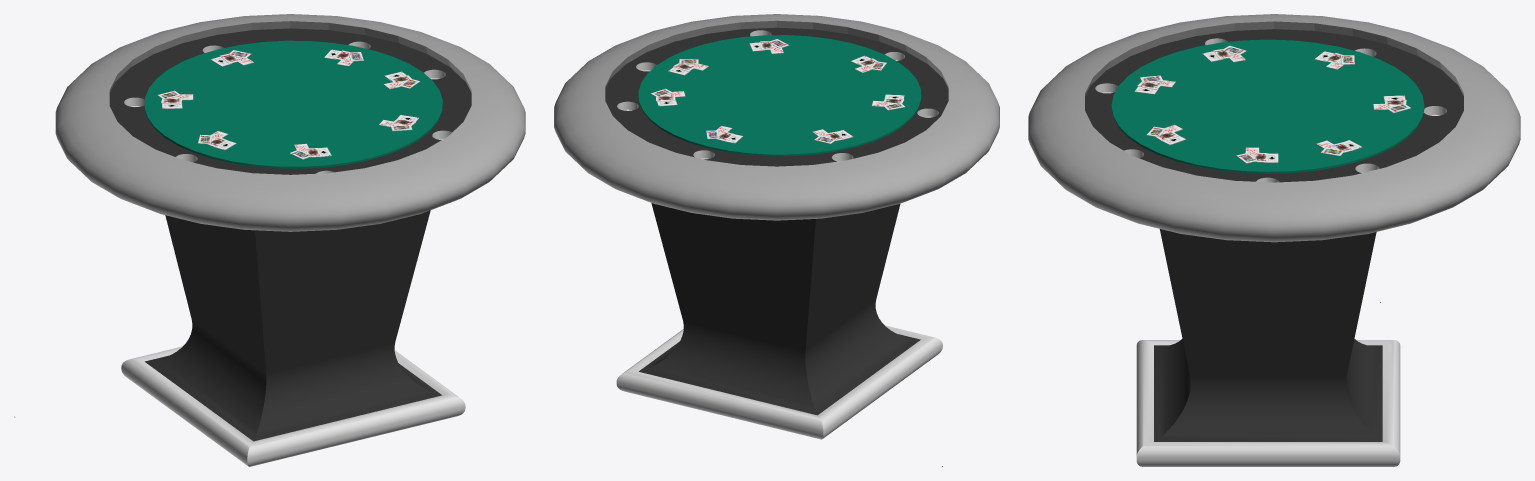
The model's file is Mesa de cartas.fbx.
3 views of the same model, side by side, from view 1: azimuth 30°, elevation 25°; view 2: azimuth 150°, elevation 25°; view 3: azimuth 270°, elevation 25° (orthographic). The views are drawn at different scales.
Parts seen in each view (by area): view 1: polySurface2844, polySurface2829, polySurface2834, polySurface2842; view 2: polySurface2844, polySurface2829, polySurface2834, polySurface2842; view 3: polySurface2844, polySurface2829, polySurface2834, polySurface2842.
Boxes of the visible parts, x1=… form: polySurface2844: x1=121, y1=210, x2=465, y2=466; polySurface2829: x1=55, y1=14, x2=525, y2=231; polySurface2834: x1=144, y1=40, x2=442, y2=168; polySurface2842: x1=109, y1=28, x2=471, y2=174; polySurface2844: x1=616, y1=203, x2=942, y2=439; polySurface2829: x1=554, y1=14, x2=999, y2=220; polySurface2834: x1=638, y1=35, x2=921, y2=156; polySurface2842: x1=605, y1=27, x2=948, y2=166; polySurface2844: x1=1136, y1=229, x2=1400, y2=466; polySurface2829: x1=1028, y1=14, x2=1520, y2=242; polySurface2834: x1=1111, y1=39, x2=1424, y2=173; polySurface2842: x1=1085, y1=29, x2=1463, y2=182.
Bounding box in the file's own units: 87.37 × 58.52 × 82.66.
14 materials, 4 textured.
